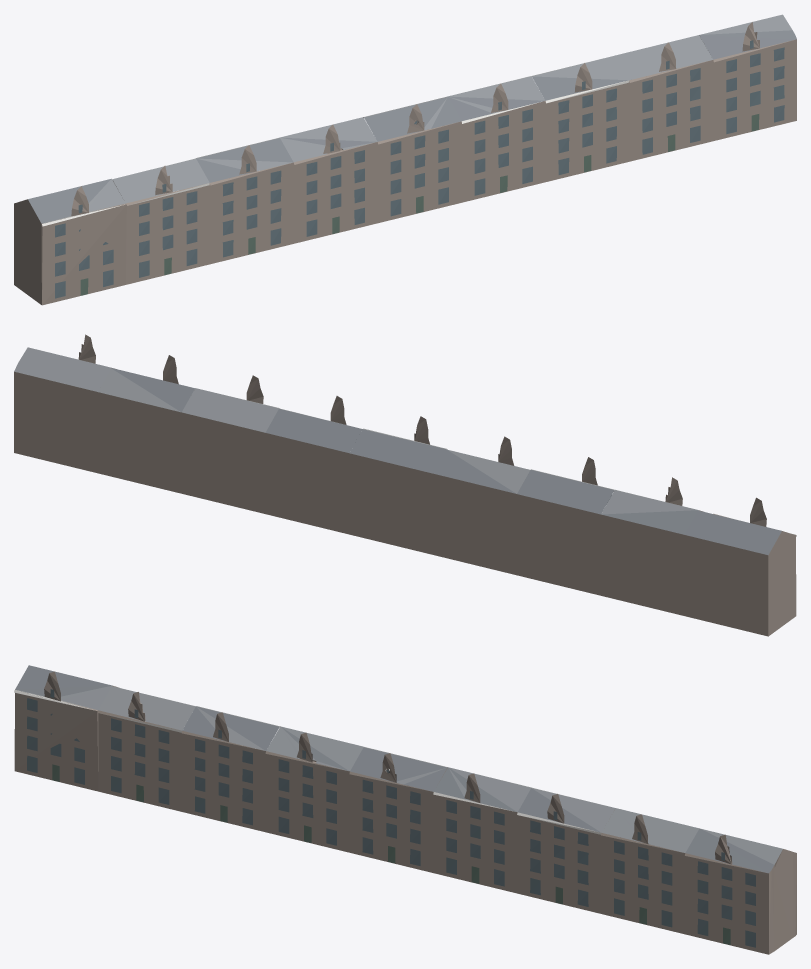
Rendered from chunk-face-marnix-c.lod2.glb.
3 renders of one model, top to bottom at view 1: azimuth 30°, elevation 25°; view 2: azimuth 150°, elevation 25°; view 3: azimuth 330°, elevation 25°, orthographic.
Parts seen in each view (by area): view 1: lod2; view 2: lod2; view 3: lod2.
Boxes of the visible parts, x1=… form: lod2: x1=14, y1=14, x2=796, y2=305; lod2: x1=14, y1=334, x2=796, y2=636; lod2: x1=14, y1=665, x2=796, y2=954.
Size of the model in its own units: 125 by 17.34 by 8.46.
